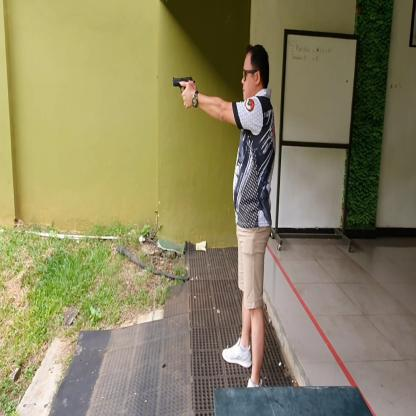handgun: (172, 74, 194, 91)
